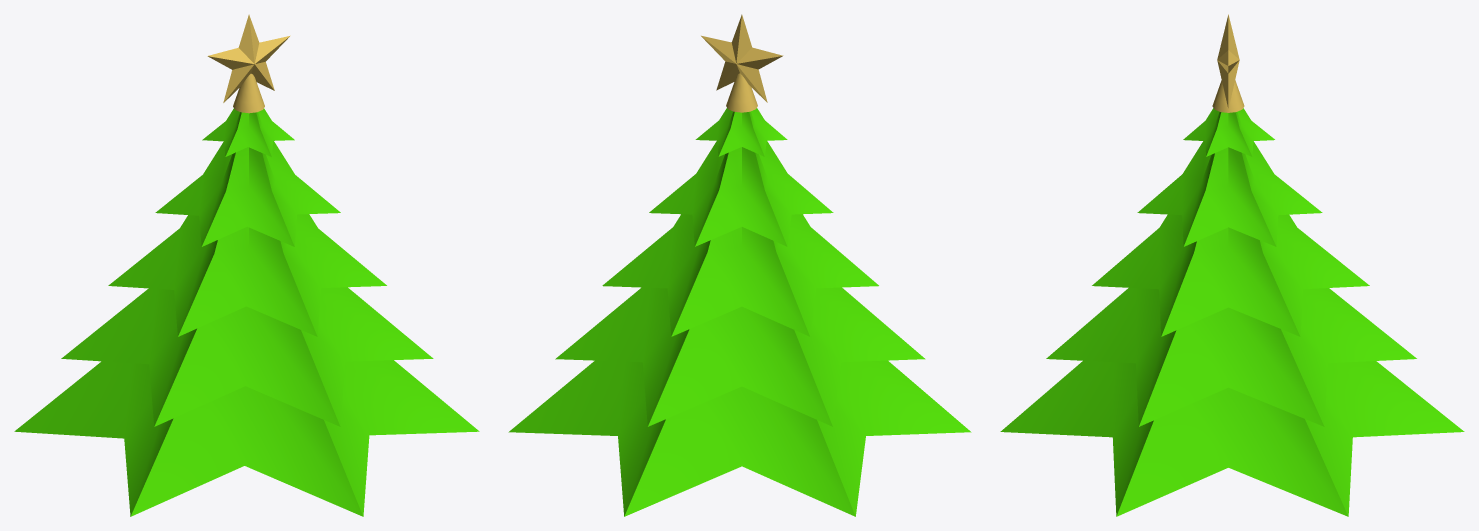
File: tree NO FLIP Z or CAM.gltf
3 renders of one model, left to right at view 1: azimuth 30°, elevation 25°; view 2: azimuth 150°, elevation 25°; view 3: azimuth 270°, elevation 25°, orthographic.
Parts seen in each view (by area): view 1: Cone 0, Cone 1, Cone 2, Cone 3, Star, Cone 4, cap; view 2: Cone 0, Cone 1, Cone 2, Cone 3, Cone 4, Star, cap; view 3: Cone 0, Cone 1, Cone 2, Cone 3, Cone 4, Star, cap.
Part boxes in pixels (x1=…): Cone 0: x1=14, y1=360, x2=479, y2=516; Cone 1: x1=61, y1=287, x2=433, y2=426; Cone 2: x1=108, y1=214, x2=386, y2=336; Cone 3: x1=155, y1=141, x2=340, y2=246; Star: x1=207, y1=14, x2=290, y2=102; Cone 4: x1=202, y1=108, x2=294, y2=156; cap: x1=233, y1=73, x2=264, y2=113; Cone 0: x1=508, y1=360, x2=971, y2=516; Cone 1: x1=555, y1=287, x2=925, y2=426; Cone 2: x1=602, y1=214, x2=878, y2=336; Cone 3: x1=649, y1=141, x2=833, y2=246; Cone 4: x1=695, y1=108, x2=787, y2=156; Star: x1=701, y1=14, x2=783, y2=102; cap: x1=726, y1=73, x2=757, y2=112; Cone 0: x1=1000, y1=360, x2=1464, y2=516; Cone 1: x1=1046, y1=288, x2=1416, y2=426; Cone 2: x1=1092, y1=214, x2=1369, y2=336; Cone 3: x1=1137, y1=141, x2=1322, y2=246; Cone 4: x1=1183, y1=108, x2=1274, y2=156; Star: x1=1217, y1=14, x2=1239, y2=109; cap: x1=1212, y1=80, x2=1244, y2=112.
Bounding box in the file's own units: 250 × 286 × 288.
